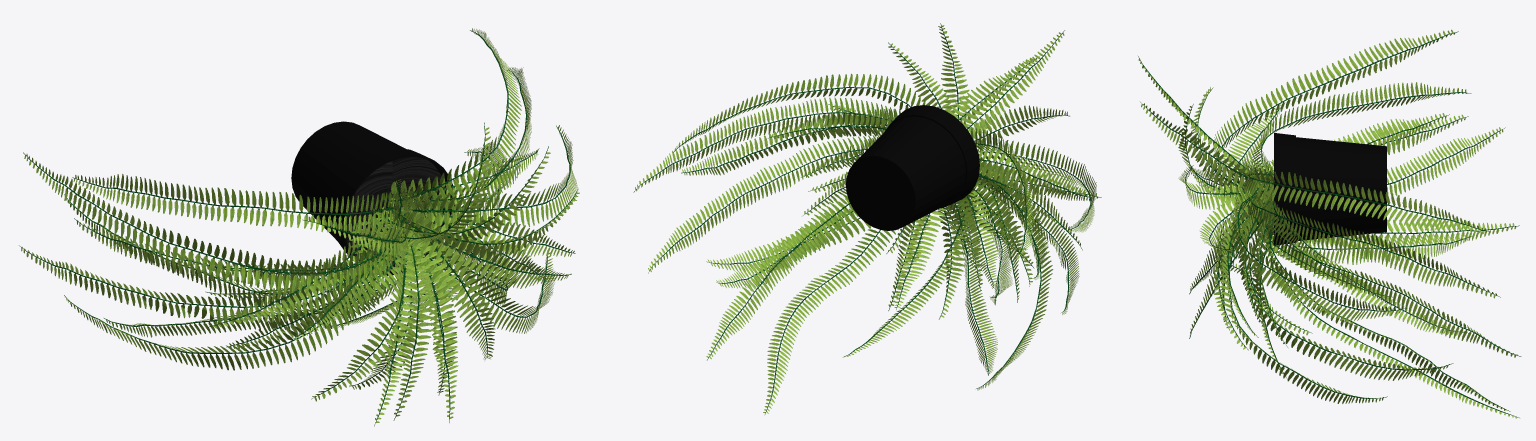
Rendered from Cây dương xỉ.glb.
3 views of the same model, side by side, from view 1: azimuth 30°, elevation 25°; view 2: azimuth 150°, elevation 25°; view 3: azimuth 270°, elevation 25° (orthographic). The views are drawn at different scales.
Parts seen in each view (by area): view 1: Object_4, Object_6, Object_7, Object_8; view 2: Object_4, Object_7, Object_6; view 3: Object_4, Object_7, Object_6.
Part boxes in pixels (x1,y1,x2,y2): Object_4: (21,28,579,422); Object_6: (19,30,577,426); Object_7: (291,121,454,275); Object_8: (345,157,445,266); Object_4: (635,25,1097,413); Object_7: (846,105,979,230); Object_6: (633,23,1101,414); Object_4: (1138,29,1517,418); Object_7: (1274,133,1386,245); Object_6: (1138,31,1521,417).
Size of the model in its own units: 0.5547 by 0.371 by 0.413.
4 materials, 2 textured.
